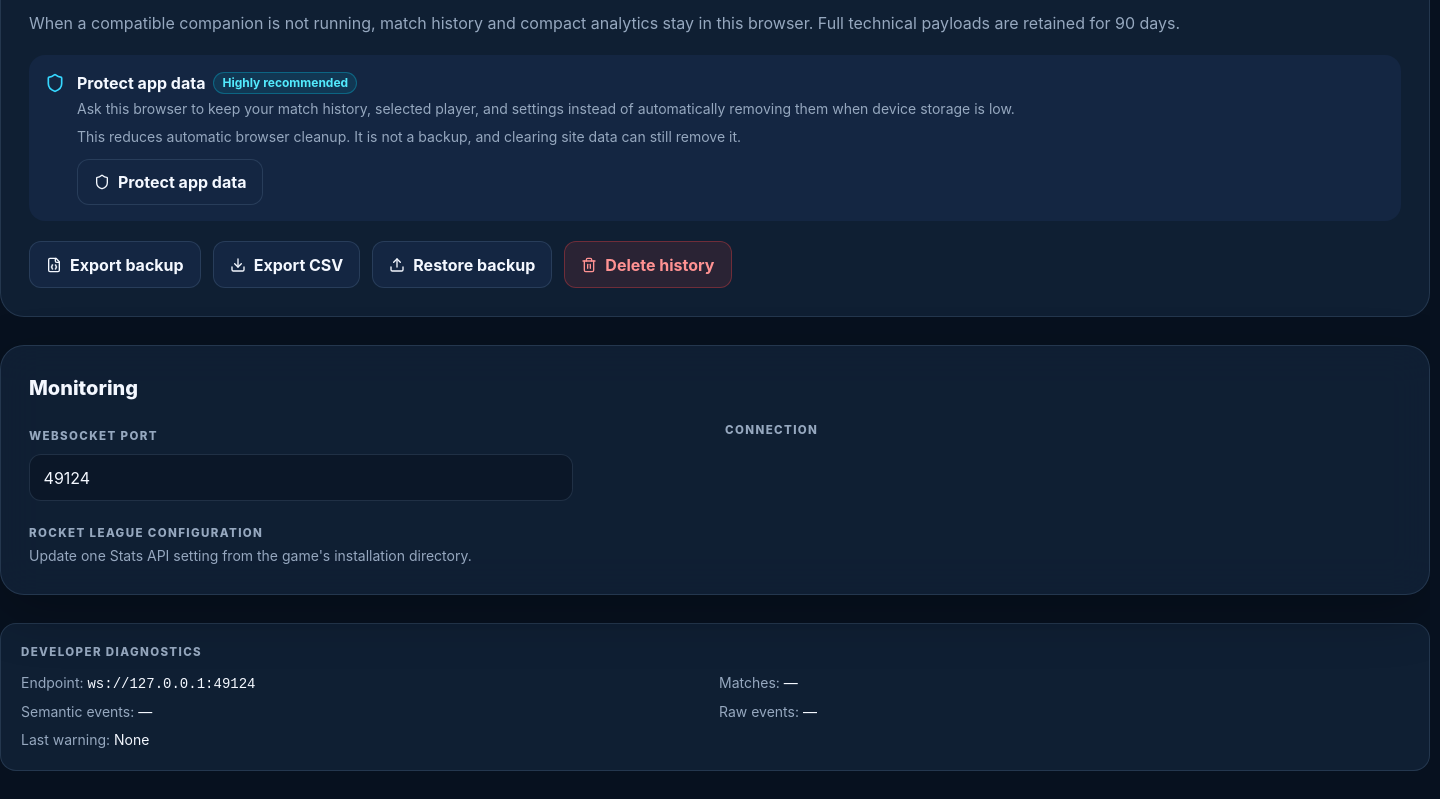
Test: settings CSV export › floats the save action only after a setting changes
(page scrolled)
Expected: the button "Save settings" is not shown
Replace the text in the number field labelled "WebSocket port" with "49125" at (301, 478), box x1=29 y1=454 x2=573 y2=501
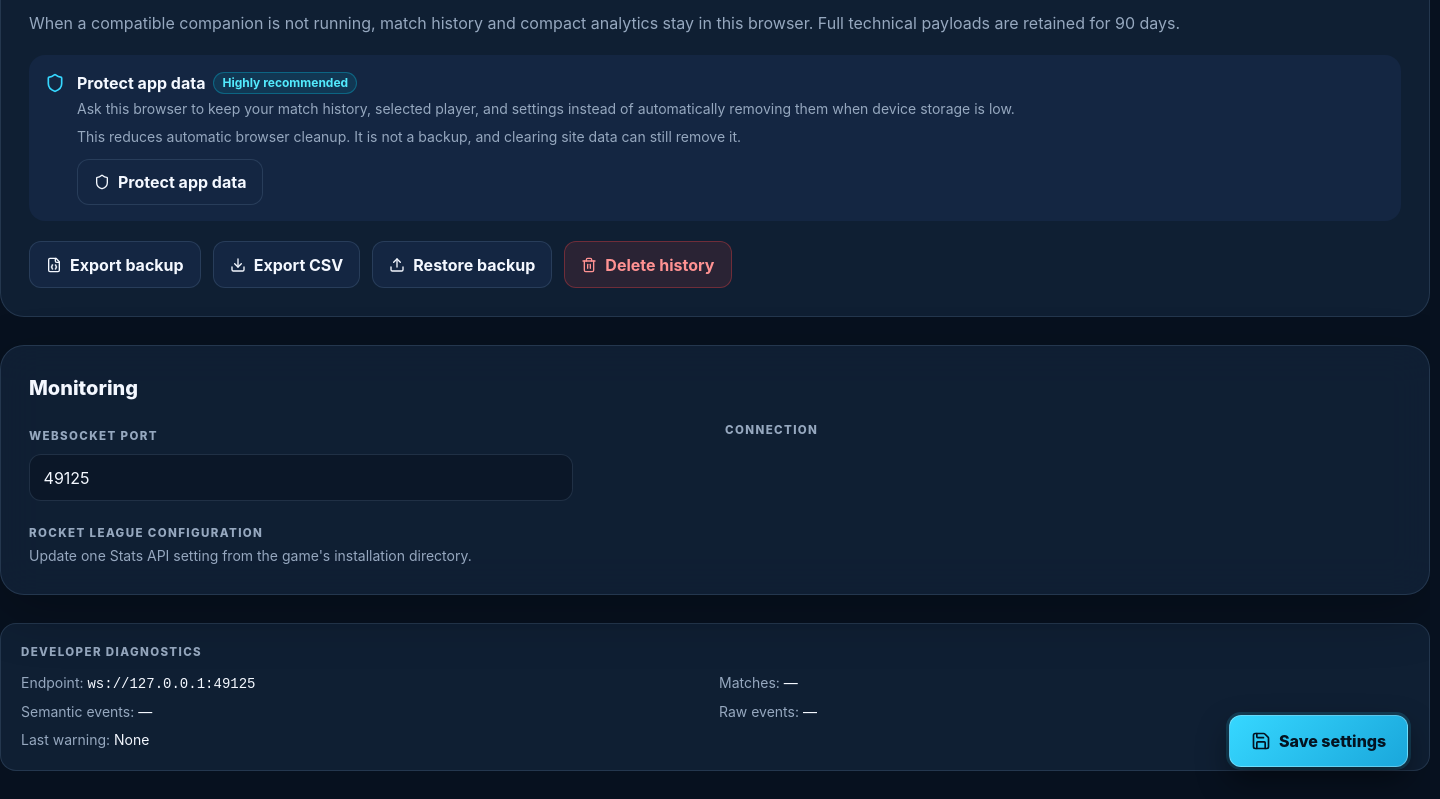
Replace the text in the number field labelled "WebSocket port" with "49124" at (301, 478), box x1=29 y1=454 x2=573 y2=501
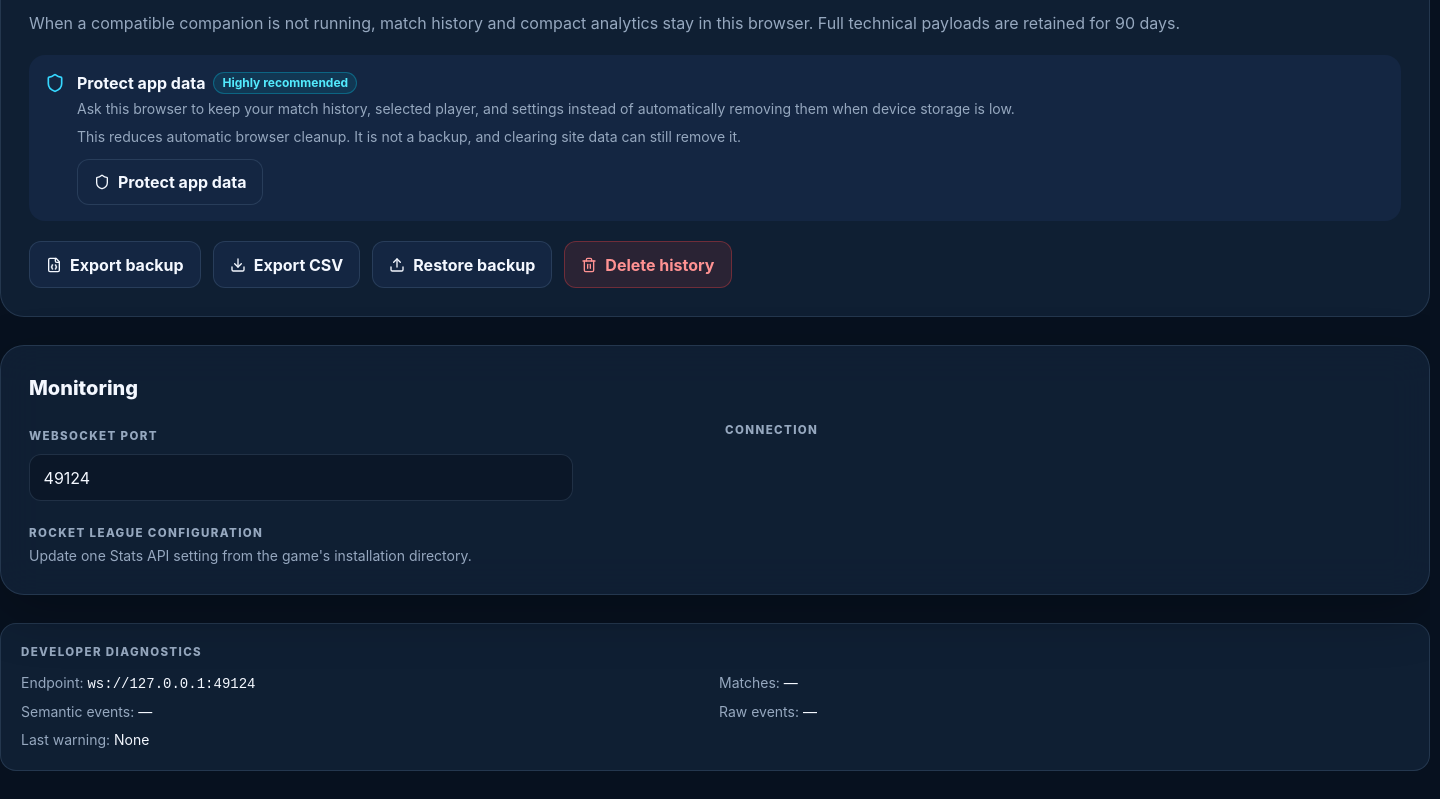
Expected: the button "Save settings" is gone
